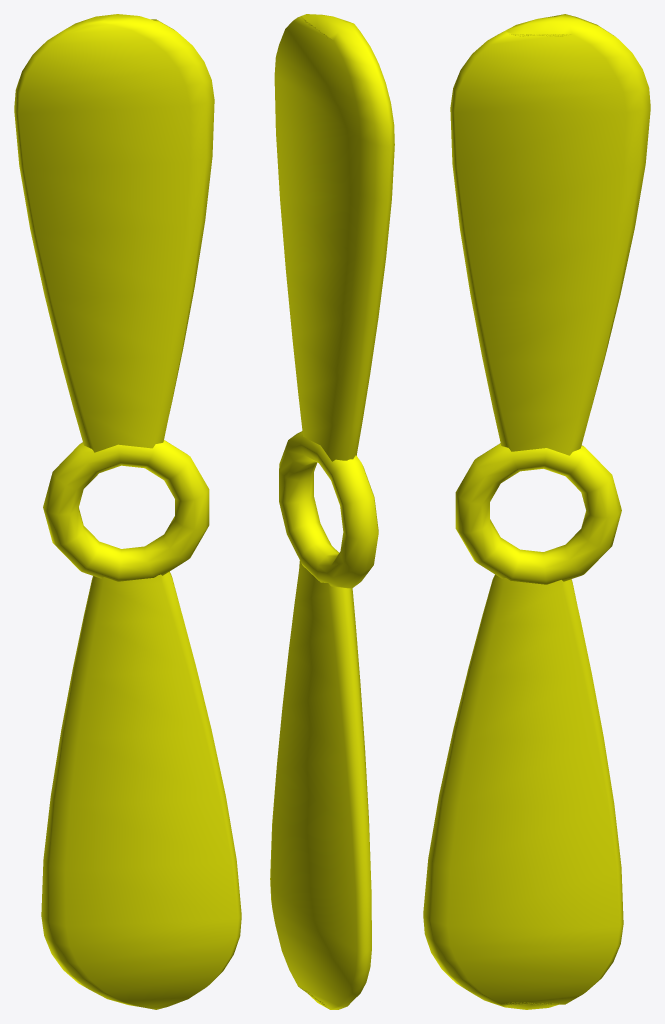
File: Nez_3_2.FBX
3 renders of one model, left to right at view 1: azimuth 90°, elevation 25°; view 2: azimuth 210°, elevation 25°; view 3: azimuth 270°, elevation 25°, orthographic.
Visible parts, largest first — view 1: Rectangle002; view 2: Rectangle002; view 3: Rectangle002.
Part boxes in pixels (x1,y1,x2,y2): Rectangle002: [14, 14, 241, 1009]; Rectangle002: [270, 14, 394, 1009]; Rectangle002: [423, 14, 650, 1009].
Size of the model in its own units: 1.79 by 54.58 by 11.4.
